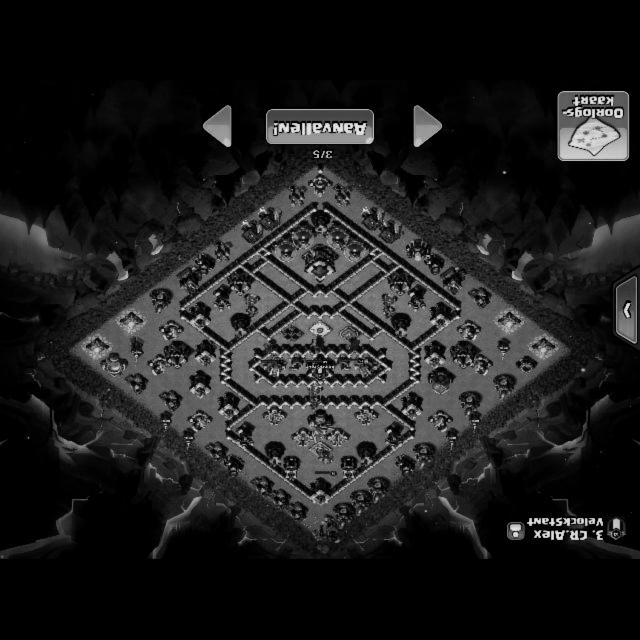AD: (407, 285, 426, 313), (213, 285, 232, 313), (385, 423, 404, 451), (236, 423, 255, 451)
AirSweeper: (335, 353, 353, 372), (289, 353, 307, 372)
BombTower: (284, 458, 299, 483), (341, 458, 356, 482)
Canon: (428, 410, 453, 433), (308, 176, 333, 198), (188, 411, 213, 433), (147, 355, 172, 377), (468, 355, 493, 377), (159, 321, 184, 342), (457, 321, 482, 342)
ClanCastle: (307, 355, 335, 387)
Eagle: (308, 410, 334, 443)
Inferno: (307, 384, 323, 410), (244, 294, 260, 319), (382, 294, 398, 319)
KingPad: (309, 443, 331, 459)
Mortar: (223, 455, 245, 478), (395, 456, 417, 478), (194, 254, 215, 276), (424, 254, 445, 276)
QueenPad: (280, 326, 304, 343)
RcPad: (340, 328, 358, 342)
Scattershot: (355, 356, 379, 380), (263, 356, 286, 380)
TH13: (304, 245, 335, 283)
WardenPad: (310, 324, 330, 338)
WizzTower: (312, 211, 330, 237), (358, 443, 376, 469), (393, 314, 411, 340), (232, 314, 250, 340), (267, 443, 285, 468)
Xbow: (325, 428, 350, 447), (291, 428, 316, 447), (354, 407, 379, 426), (262, 407, 287, 426)
